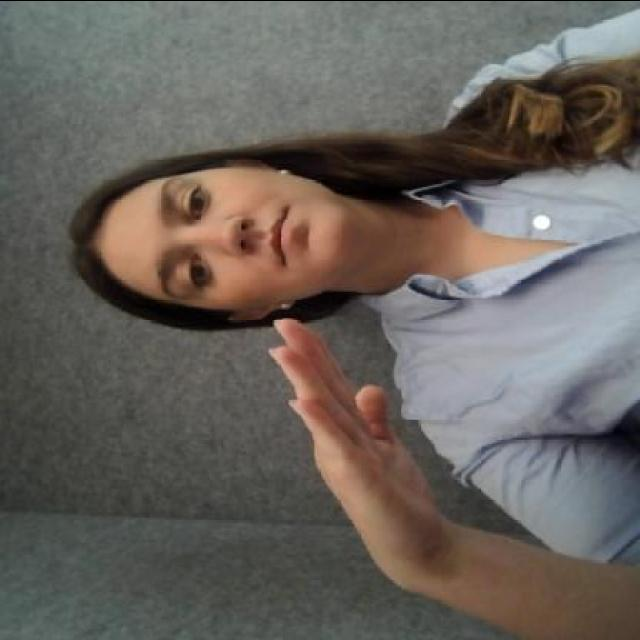Paper: (260, 304, 448, 576)
